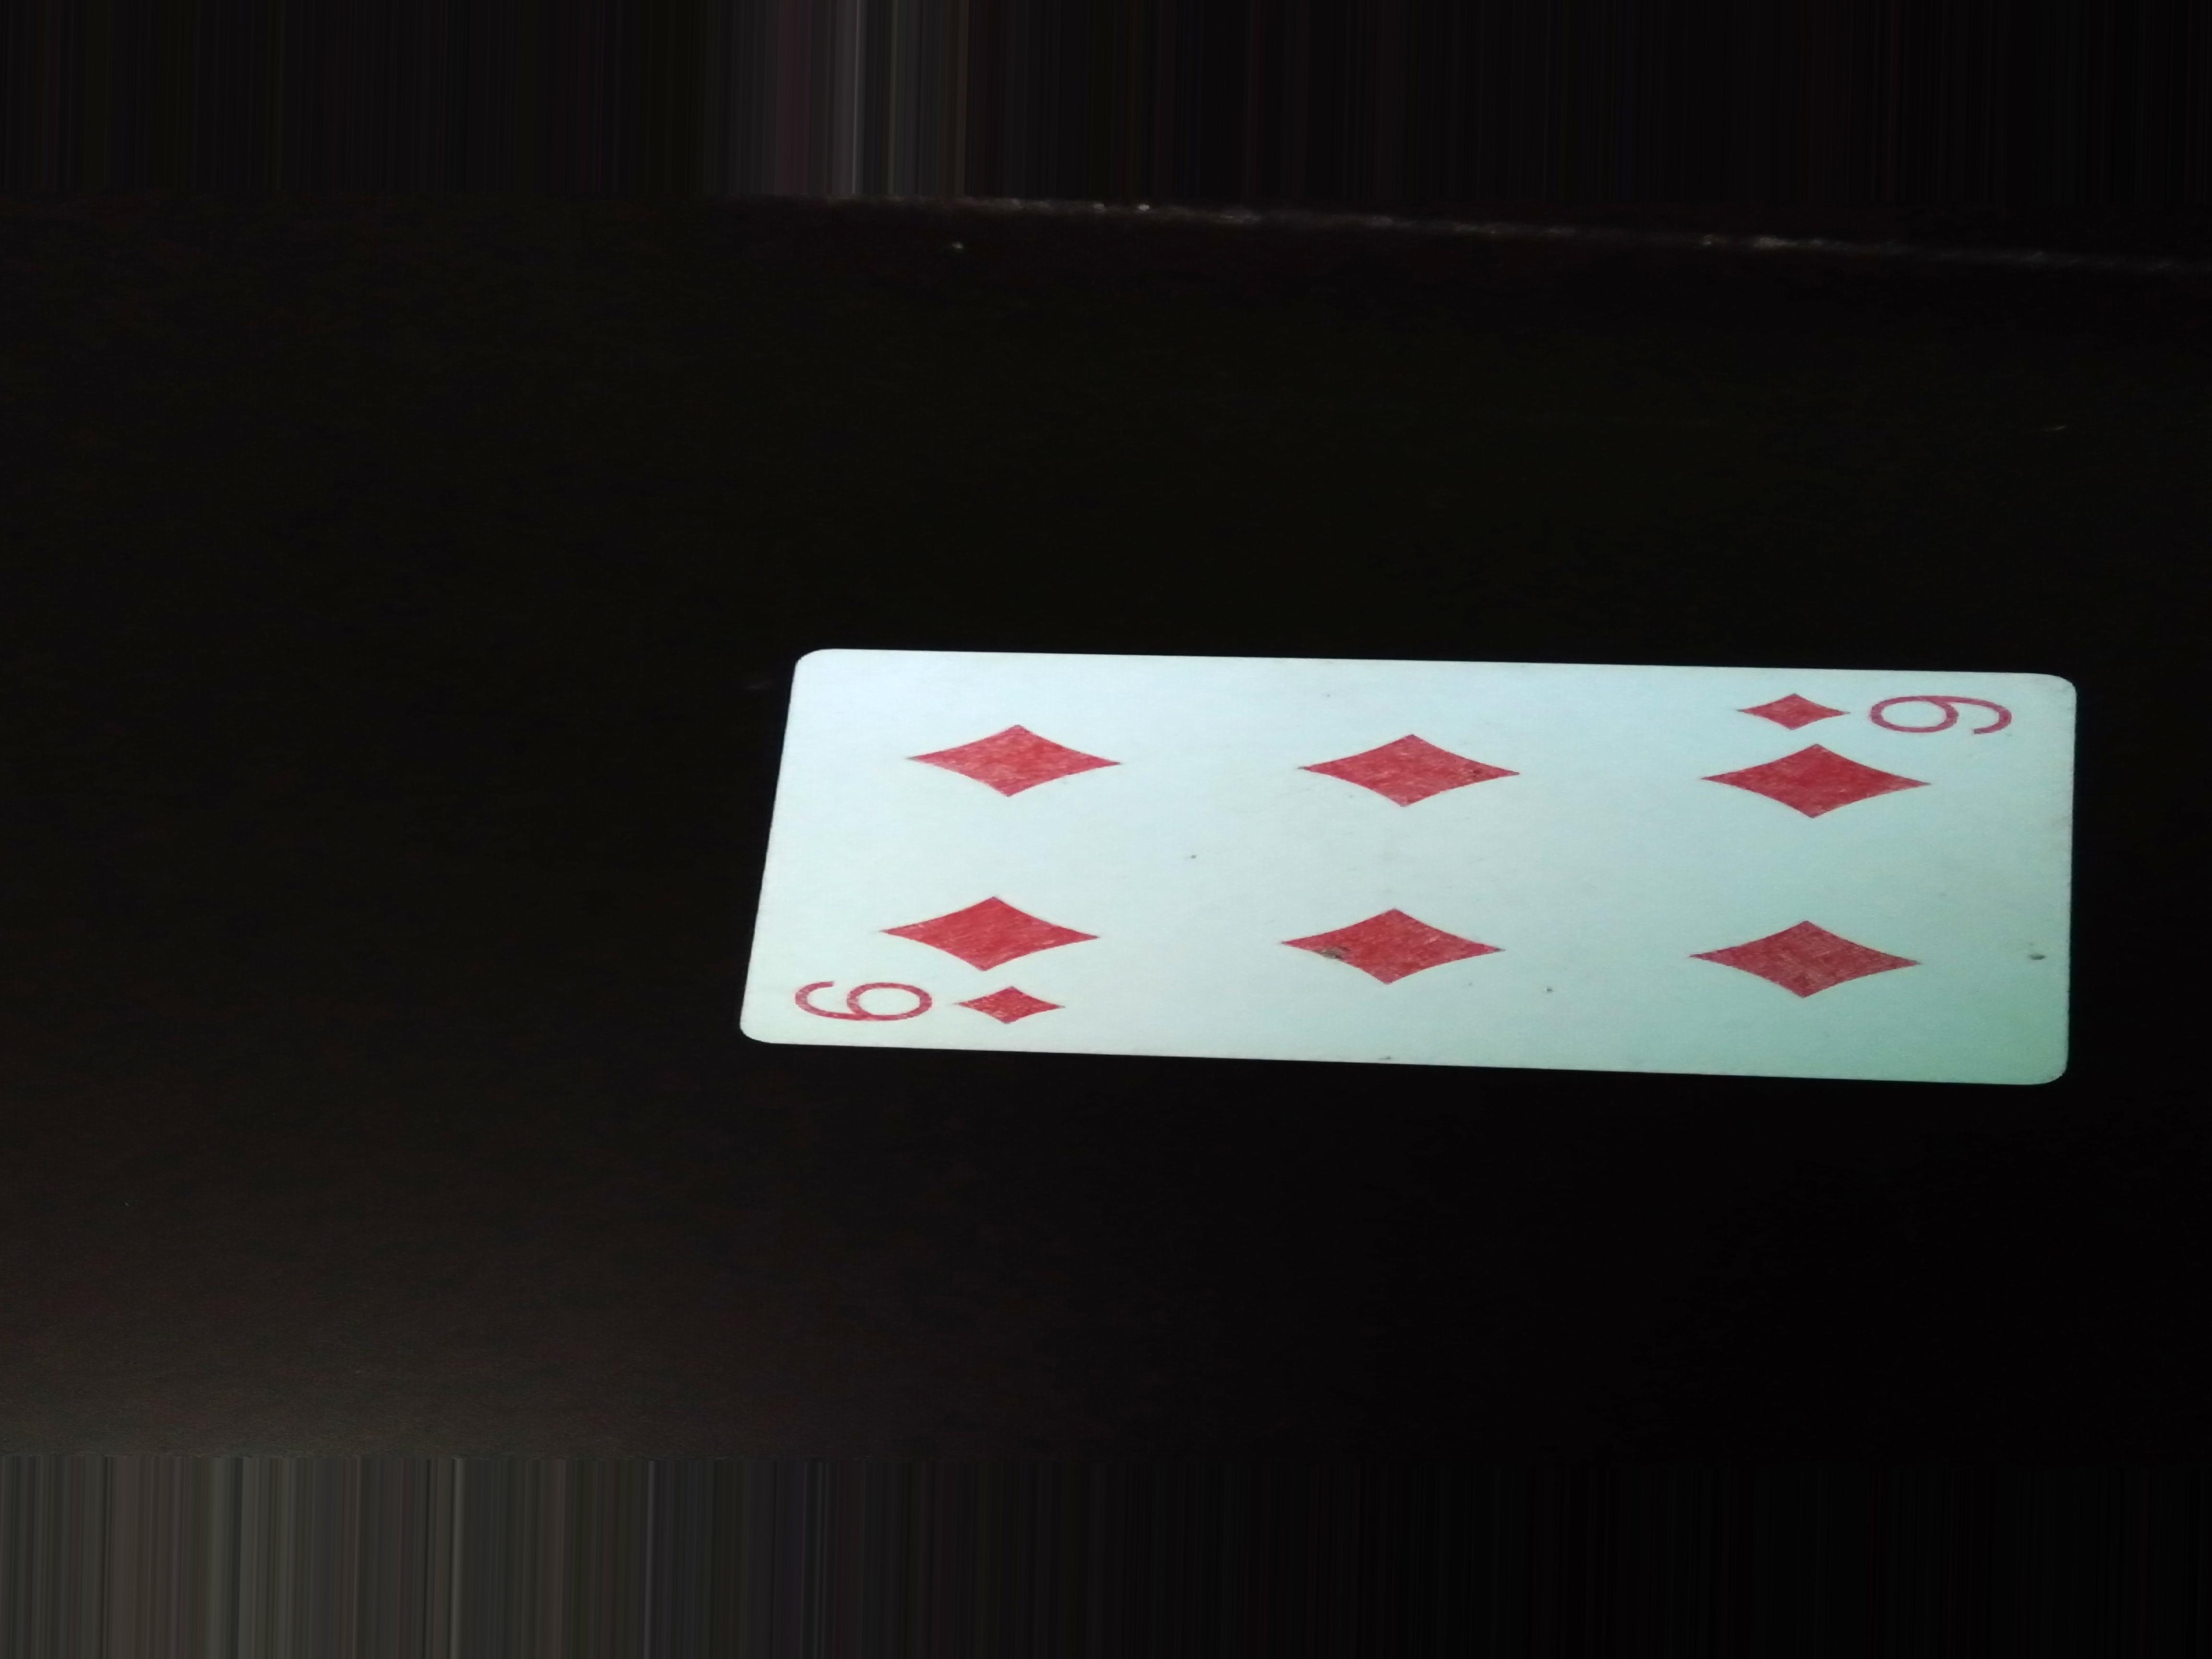6D: (766, 960, 1068, 1044)
